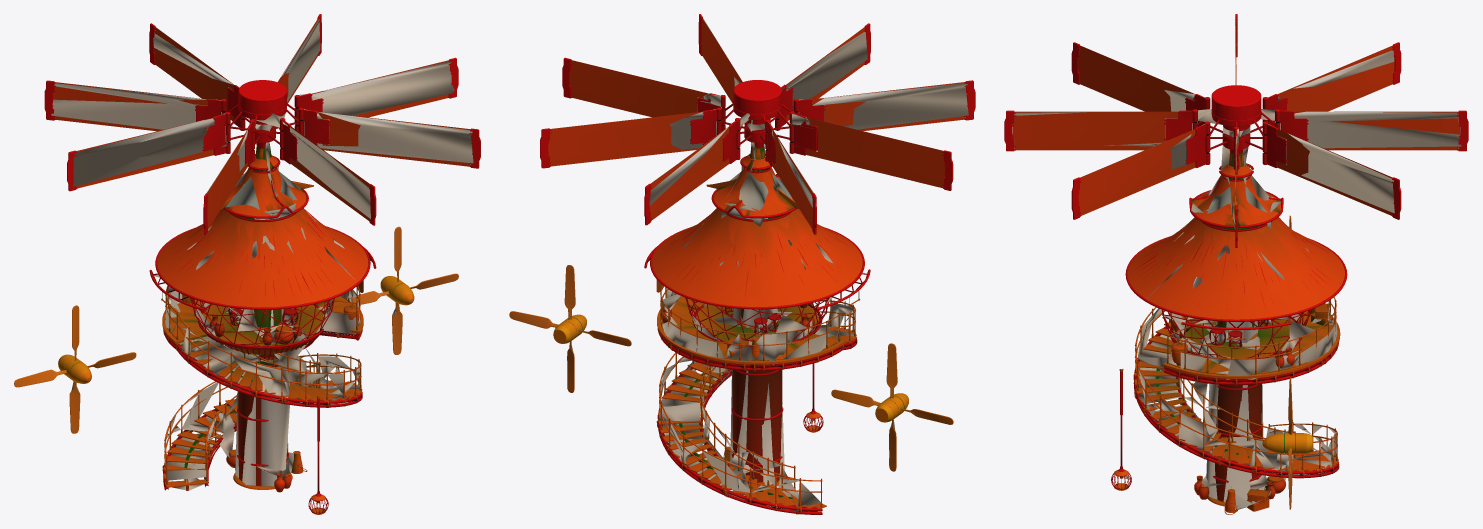
The model's file is KiteA.glb.
The picture shows the model from 3 angles, left to right: view 1: azimuth 30°, elevation 25°; view 2: azimuth 150°, elevation 25°; view 3: azimuth 270°, elevation 25°; orthographic projection. The views are drawn at different scales.
Visible parts, largest first — view 1: L0, L2, L1; view 2: L0, L1, L2; view 3: L0, L1, L2.
Boxes of the visible parts, x1=… form: L0: x1=14, y1=14, x2=480, y2=514; L2: x1=51, y1=19, x2=473, y2=501; L1: x1=15, y1=14, x2=479, y2=513; L0: x1=509, y1=14, x2=975, y2=514; L1: x1=510, y1=14, x2=973, y2=511; L2: x1=569, y1=19, x2=968, y2=511; L0: x1=1004, y1=14, x2=1468, y2=514; L1: x1=1007, y1=14, x2=1465, y2=514; L2: x1=1012, y1=26, x2=1461, y2=509.
Size of the model in its own units: 20.69 by 17.54 by 18.18.
